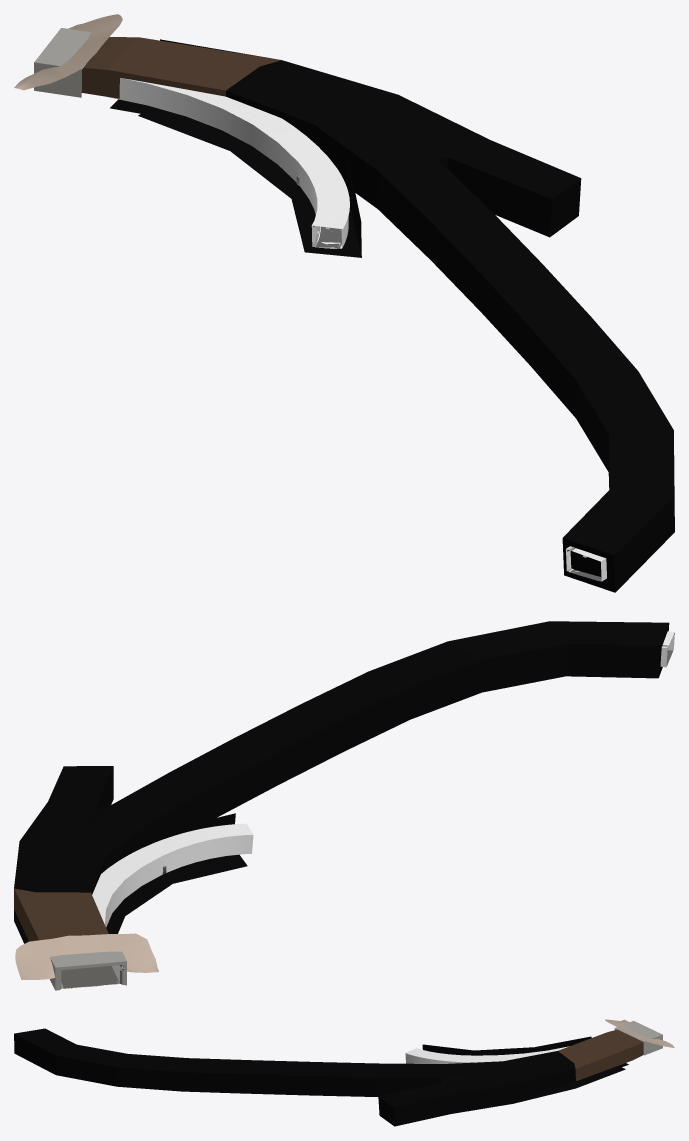
The model's file is tunnel_city1.dae.
3 views of the same model, one above another, from view 1: azimuth 30°, elevation 25°; view 2: azimuth 150°, elevation 25°; view 3: azimuth 270°, elevation 25° (orthographic). The views are drawn at different scales.
Visible parts, largest first — view 1: tunnel_city1_a1000, tunnel_city1_a6000, tunnel_city1_a2500; view 2: tunnel_city1_a1000, tunnel_city1_a6000, tunnel_city1_a2500; view 3: tunnel_city1_a1000, tunnel_city1_a6000, tunnel_city1_a2500.
Part boxes in pixels (x1=…): tunnel_city1_a1000: x1=34, y1=28, x2=674, y2=592; tunnel_city1_a6000: x1=14, y1=14, x2=606, y2=581; tunnel_city1_a2500: x1=100, y1=78, x2=605, y2=581; tunnel_city1_a1000: x1=14, y1=621, x2=669, y2=990; tunnel_city1_a6000: x1=14, y1=621, x2=674, y2=988; tunnel_city1_a2500: x1=61, y1=631, x2=674, y2=988; tunnel_city1_a1000: x1=14, y1=1020, x2=662, y2=1126; tunnel_city1_a6000: x1=199, y1=1019, x2=674, y2=1103; tunnel_city1_a2500: x1=405, y1=1048, x2=560, y2=1063.
Size of the model in its own units: 106 by 327 by 24.51.
